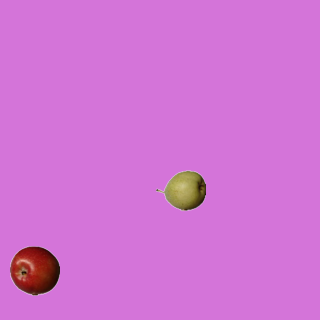Apple Braeburn: (9, 245, 59, 295)
Pear: (155, 165, 205, 215)
